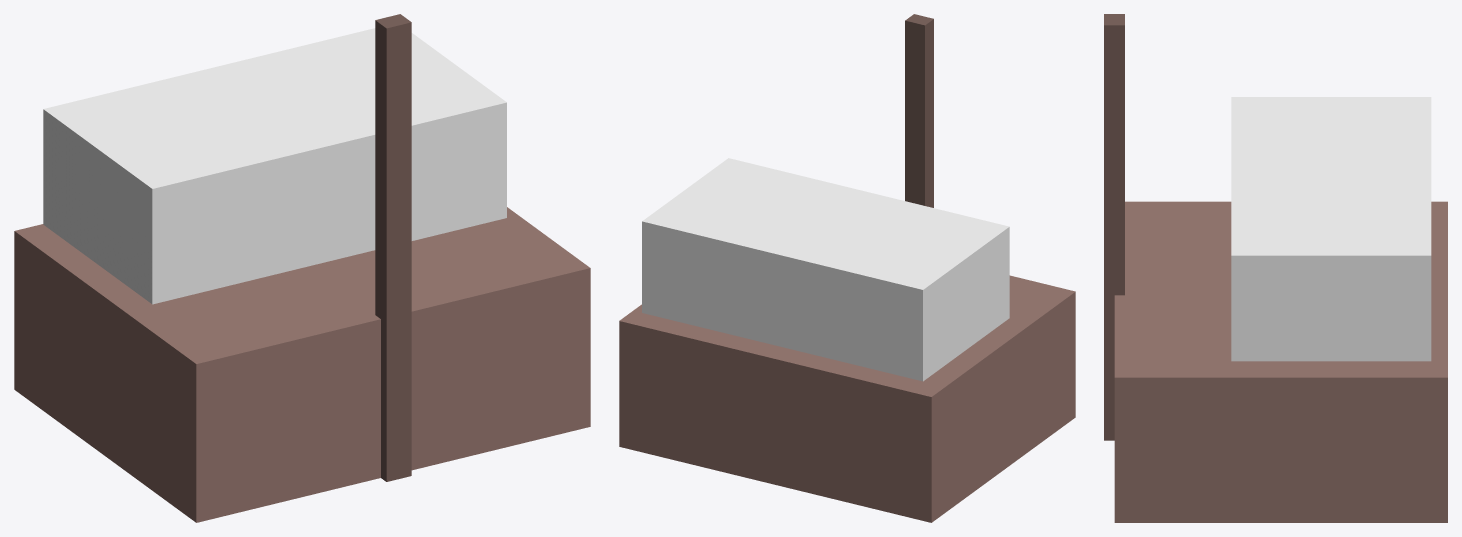
Rendered from bedside-table.glb.
3 renders of one model, left to right at view 1: azimuth 30°, elevation 25°; view 2: azimuth 150°, elevation 25°; view 3: azimuth 270°, elevation 25°, orthographic. The views are drawn at different scales.
Bounding box in the file's own units: 50 × 55 × 41.25.
